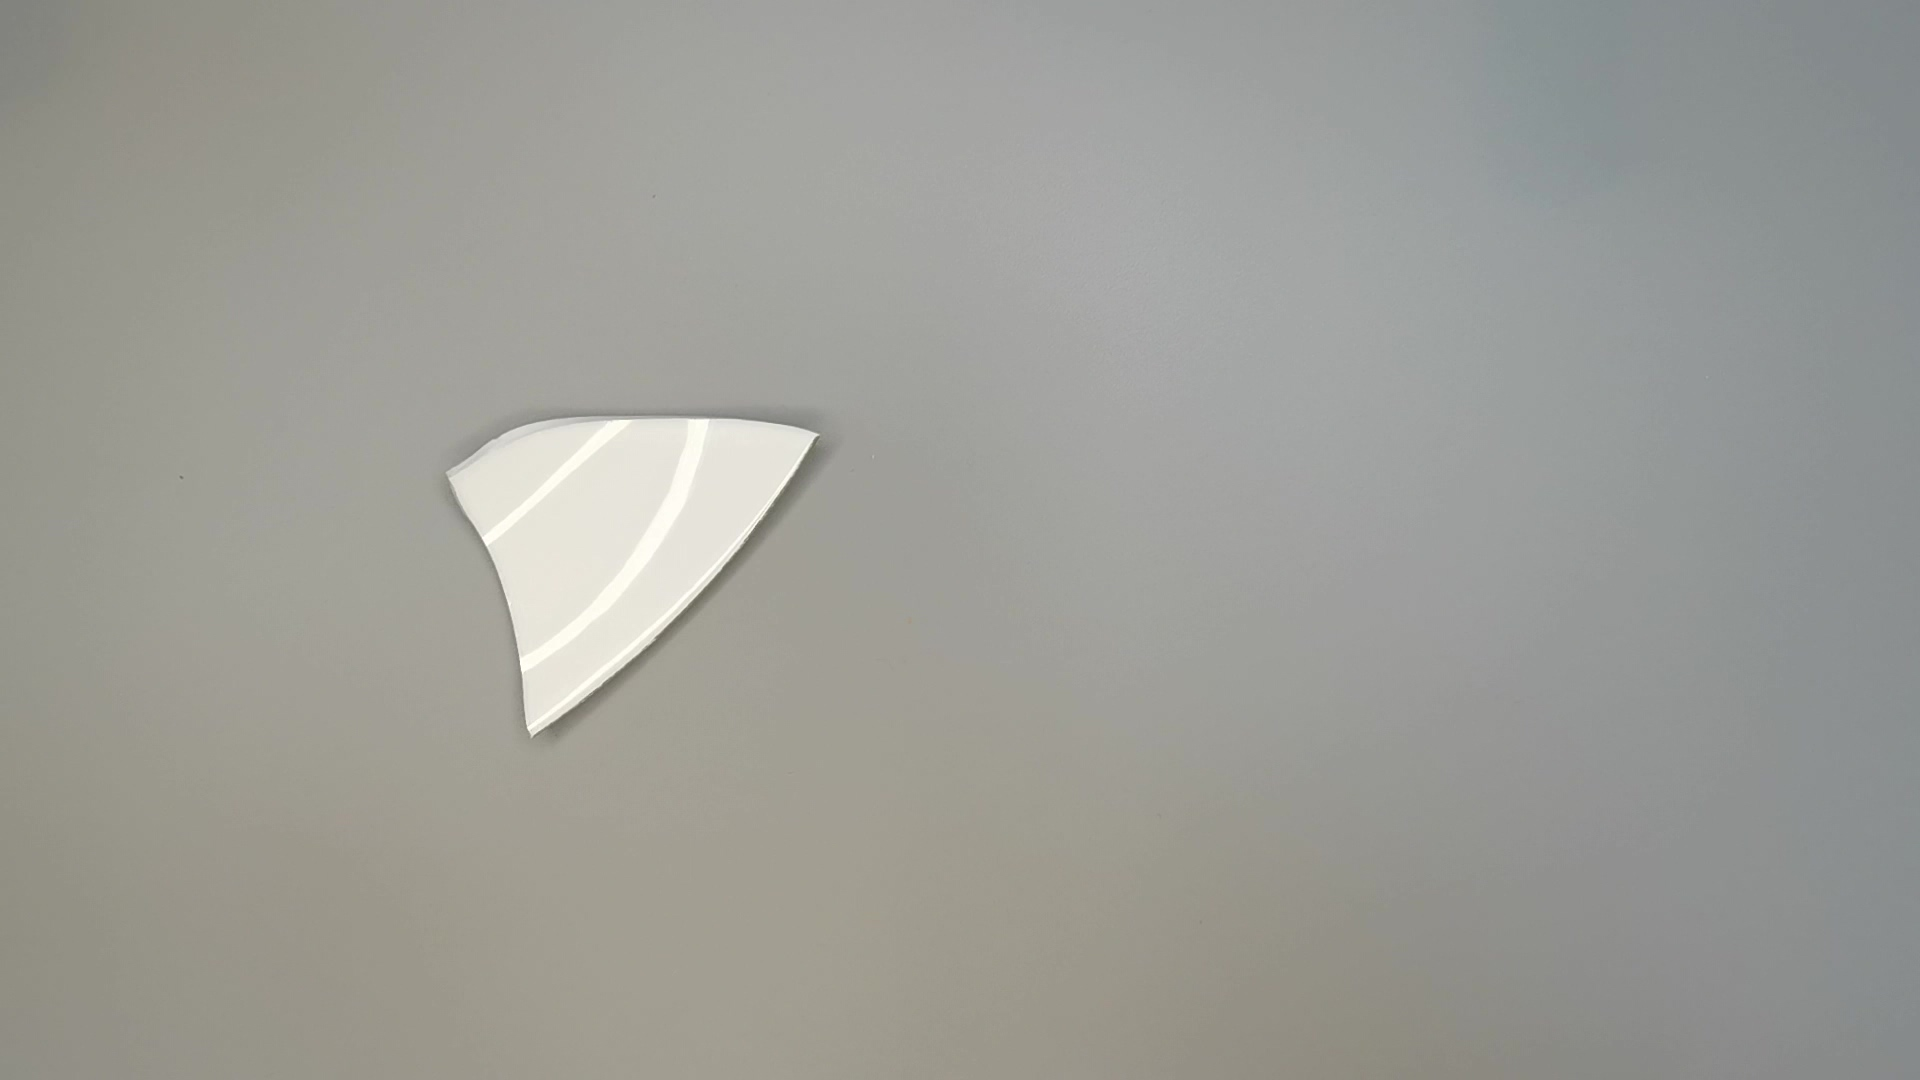ceramic: (419, 406, 833, 745)
